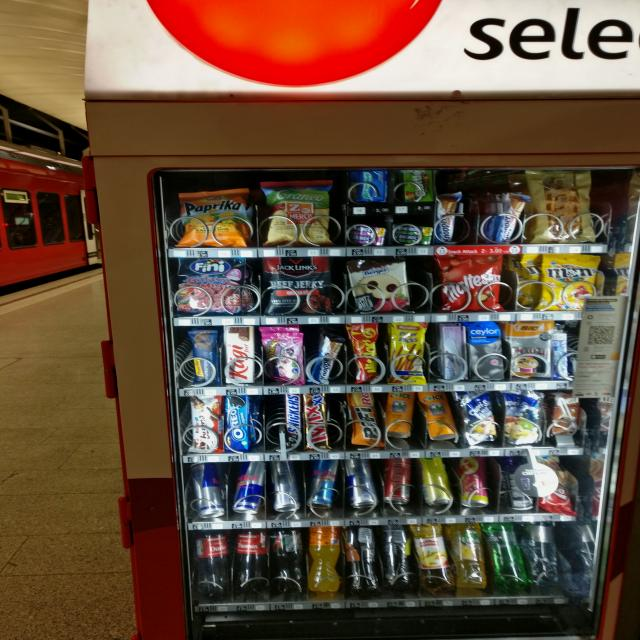7days_croissantschoko_packung_80_1_0000000000003: (536, 458, 573, 510)
airwaves_menthoneucalyptus_riegel_14_1_50173167: (355, 168, 389, 203)
bifi_roll__50__4251097402635: (350, 391, 387, 445)
bueno___43__4008400320328: (188, 392, 225, 452)
c-swiss_dosenabisicetea__33__9120025930135: (421, 392, 458, 441), (384, 392, 420, 442)
caferoyal_classicmacchiato__33__7617014164487: (502, 458, 536, 509)
caprisun_multivitamin__20__4000177605004: (502, 389, 544, 444), (460, 390, 498, 445)
coke__dose_33__54491472: (378, 454, 415, 506)
coke__flasche_50__54491472: (193, 528, 234, 593), (270, 526, 310, 590), (233, 528, 272, 591)
comella_schokodrink__33__7613100037253: (548, 390, 584, 438)
fanta___50__40822938: (303, 524, 347, 593)
fini_galaxymix_packung_100_1_8410525150364: (176, 257, 245, 312)
fini_jellykisses_packung_80_1_8410525116704: (260, 329, 306, 384)
fuse_lemon__50__5449000235947: (377, 521, 417, 590)
fuse_lemon_dose_33__5449000235947: (416, 455, 460, 505)
fuse_peach__50__5449000236623: (344, 524, 384, 593)
jacklinks_beefjerkyorginal__25__4047751730219: (262, 254, 334, 314)
jlbrichard_gauffre__90__5410495002000: (525, 166, 599, 242)
kagi___50__7610046000259: (220, 324, 256, 382)
knoppers_riegel____4035800488808: (497, 189, 529, 244), (432, 188, 464, 242), (314, 334, 346, 385)
lorenz_nicnacs__40__4018077798818: (347, 323, 382, 383)
malburner_partysticks__40__7610200279682: (387, 320, 428, 388)
maltesers___100__5000159023061: (435, 254, 506, 312)
mnms_gelb__45__40111445: (538, 253, 599, 306)
oreo___66__84100733: (226, 391, 252, 451)
powerbar_proteinplusschoko__55__4029679520028: (188, 330, 222, 381)
ramseier_schorle__50__7610057012456: (407, 524, 457, 590)
redbull___33__90162909: (188, 462, 229, 520), (344, 458, 381, 510), (304, 458, 342, 508), (231, 459, 267, 511), (269, 460, 304, 510)
skittles_sour_riegel_51_1_0000000000004: (402, 169, 432, 201)
snickers___50__5000159461122: (278, 391, 304, 446)
stimorol_spearmint_riegel_14_1_0000000000005: (393, 224, 434, 246)
stimorol_wildcherry_riegel_14_1_57060330: (351, 226, 387, 244)
tiki_himbeer_brause__50__00000000009342: (456, 456, 491, 509)
twix___50__5000159459228: (301, 393, 331, 449)
valser_classic__50__76404160: (485, 522, 527, 587)
valser_still__50__7610335002575: (524, 520, 563, 583)
volvic_pinapple__50__305764335648: (446, 522, 488, 589)
zweifel_graneochilli__100__7610095184009: (260, 178, 335, 246)
zweifel_paprika__90__7610095013002: (177, 187, 251, 247)
